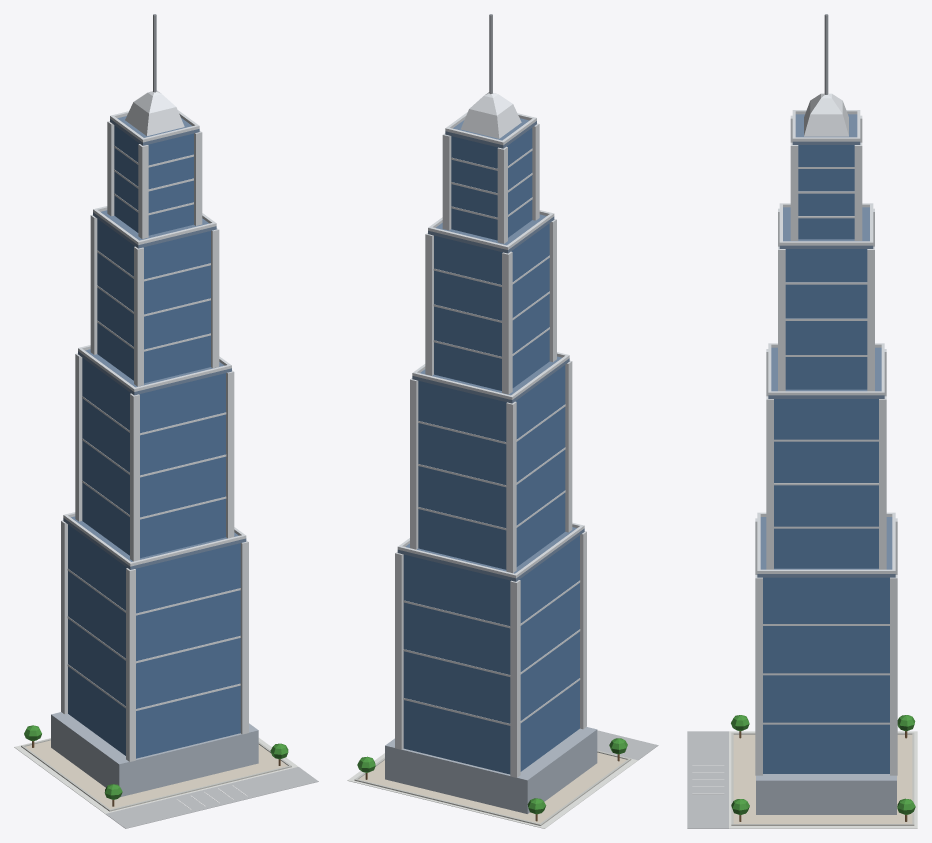
Rendered from skytower.glb.
3 views of the same model, side by side, from view 1: azimuth 30°, elevation 25°; view 2: azimuth 150°, elevation 25°; view 3: azimuth 270°, elevation 25° (orthographic). The views are drawn at different scales.
Parts seen in each view (by area): view 1: skytower; view 2: skytower; view 3: skytower.
Part boxes in pixels (left/top/right/bottom): skytower: left=14, top=14, right=318, bottom=828; skytower: left=347, top=14, right=658, bottom=828; skytower: left=687, top=14, right=917, bottom=828.
Bounding box in the file's own units: 36 × 132 × 36.
